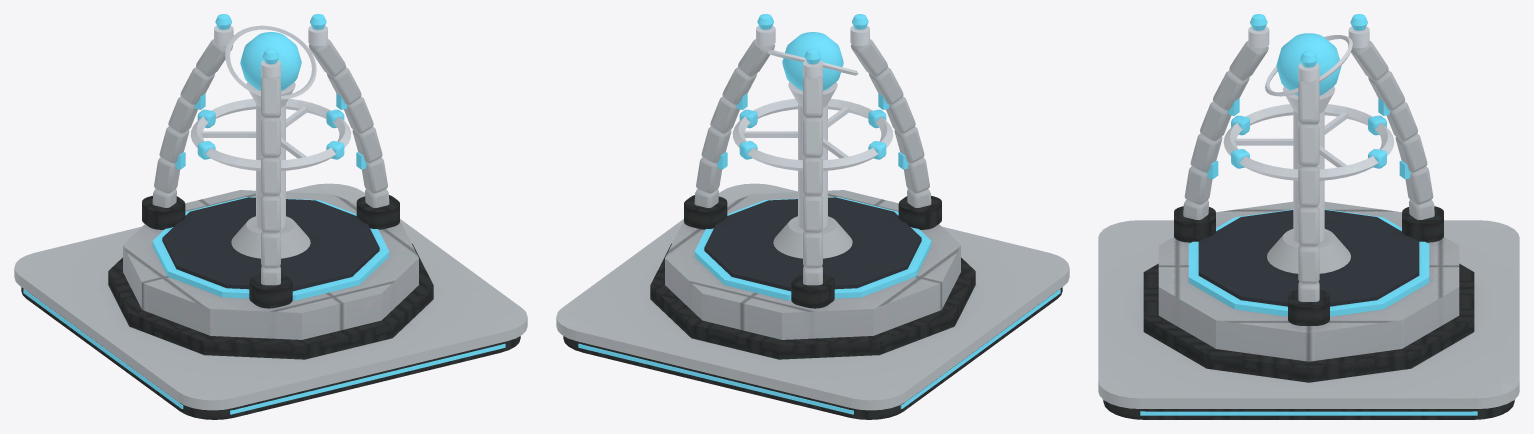
Rendered from enterprise_shield_generator.glb.
3 views of the same model, side by side, from view 1: azimuth 30°, elevation 25°; view 2: azimuth 150°, elevation 25°; view 3: azimuth 270°, elevation 25° (orthographic). The views are drawn at different scales.
Visible parts, largest first — view 1: te_enterprise_shield_generator, move_rotor; view 2: te_enterprise_shield_generator, move_rotor; view 3: te_enterprise_shield_generator, move_rotor.
Boxes of the visible parts, x1=… form: te_enterprise_shield_generator: x1=14, y1=14, x2=527, y2=419; move_rotor: x1=190, y1=98, x2=351, y2=170; te_enterprise_shield_generator: x1=556, y1=14, x2=1069, y2=419; move_rotor: x1=732, y1=98, x2=893, y2=170; te_enterprise_shield_generator: x1=1098, y1=14, x2=1519, y2=419; move_rotor: x1=1223, y1=104, x2=1394, y2=180.
Bounding box in the file's own units: 0.8 × 0.642 × 0.8.
1 material, 1 textured.
